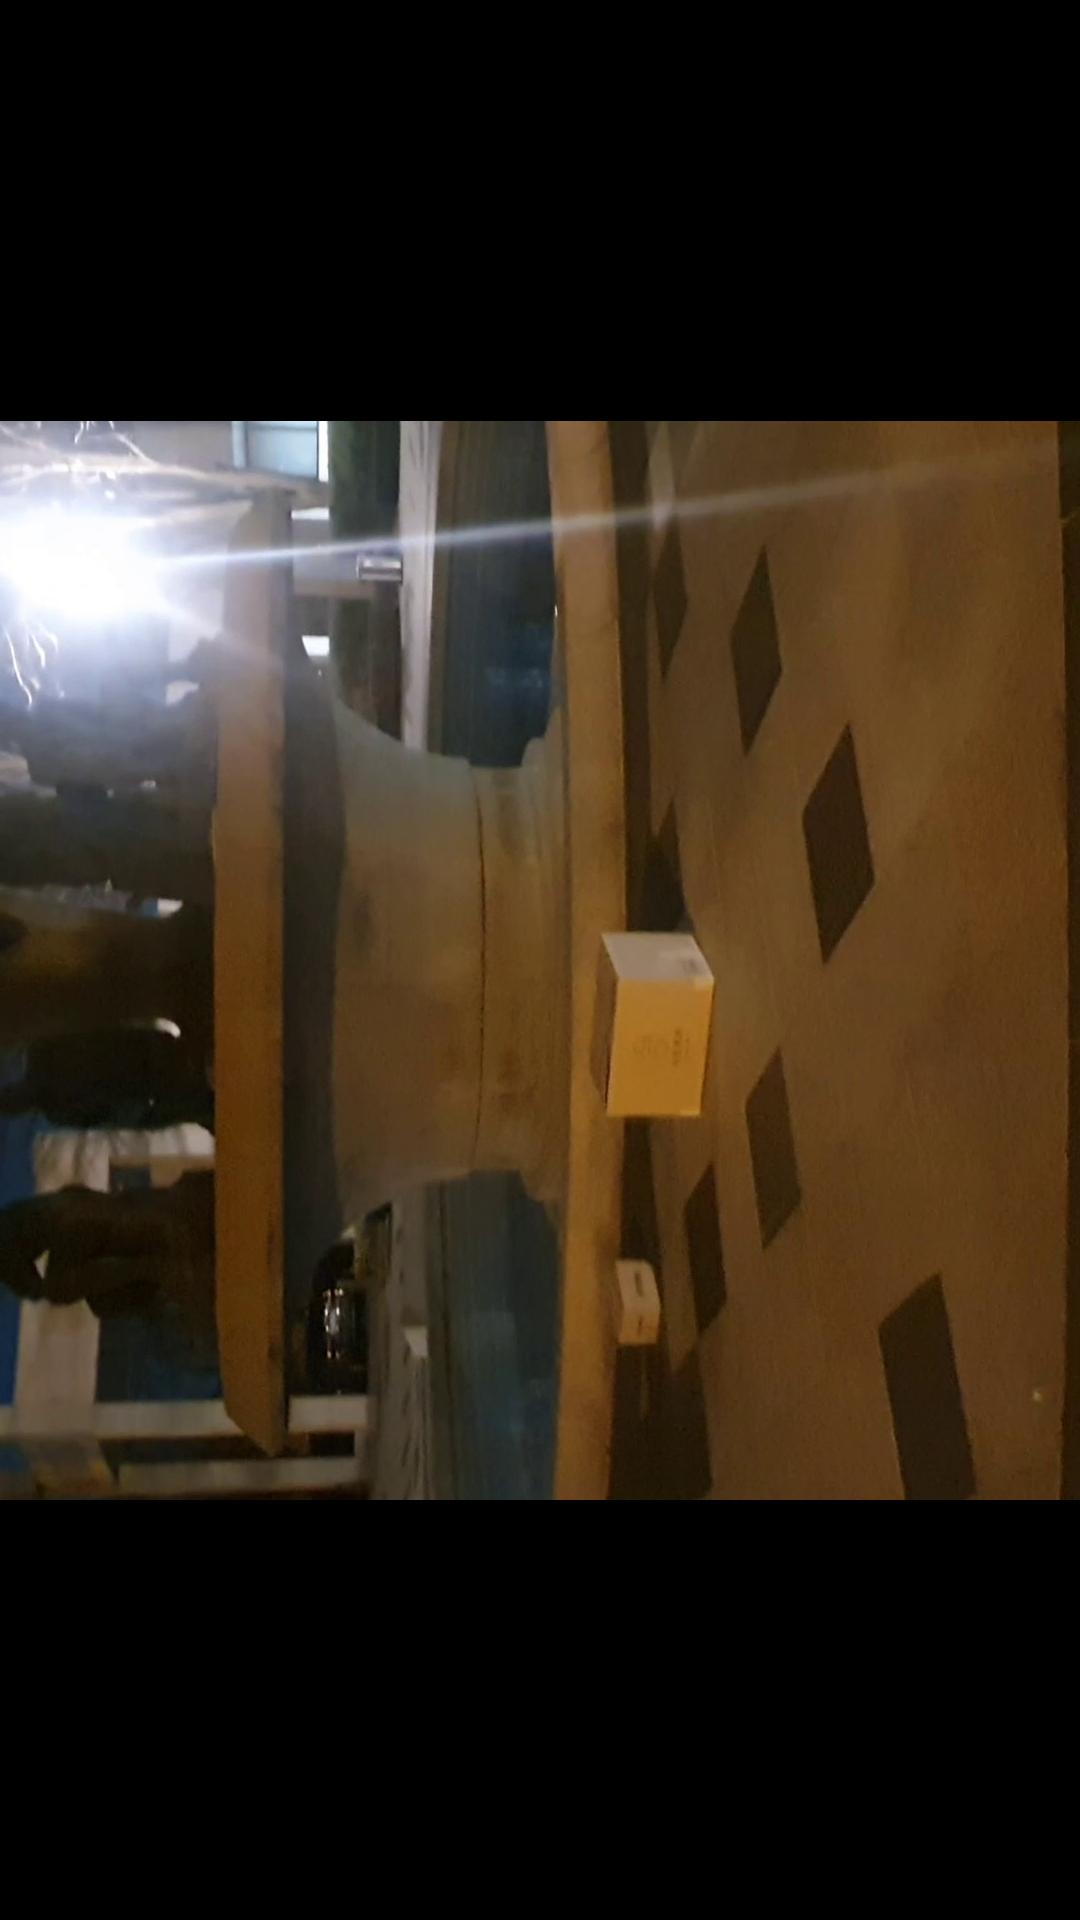Box: (574, 918, 731, 1122), (593, 1258, 675, 1371)
